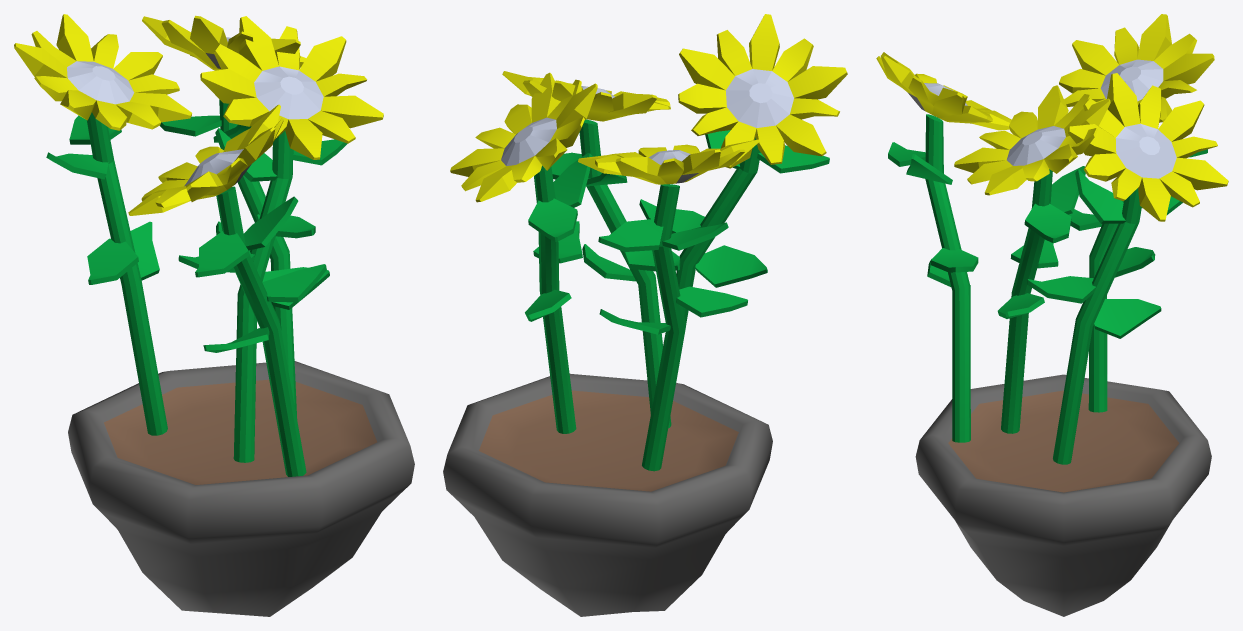
File: PlantOne.fbx
3 renders of one model, left to right at view 1: azimuth 30°, elevation 25°; view 2: azimuth 150°, elevation 25°; view 3: azimuth 270°, elevation 25°, orthographic. The views are drawn at different scales.
Parts seen in each view (by area): view 1: pCube1, pCylinder4, pCylinder8, pCylinder6, pCylinder5; view 2: pCube1, pCylinder6, pCylinder5, pCylinder4, pCylinder8; view 3: pCube1, pCylinder5, pCylinder8, pCylinder6, pCylinder4.
Boxes of the visible parts, left/top/right/bottom form: pCube1: left=68, top=361, right=414, bottom=616; pCylinder4: left=14, top=14, right=191, bottom=435; pCylinder8: left=178, top=16, right=383, bottom=462; pCylinder6: left=128, top=104, right=326, bottom=476; pCylinder5: left=142, top=15, right=315, bottom=419; pCube1: left=443, top=373, right=772, bottom=616; pCylinder6: left=639, top=14, right=847, bottom=346; pCylinder5: left=450, top=72, right=597, bottom=433; pCylinder4: left=578, top=139, right=759, bottom=471; pCylinder8: left=502, top=71, right=680, bottom=428; pCube1: left=915, top=374, right=1211, bottom=616; pCylinder5: left=1027, top=73, right=1228, bottom=464; pCylinder8: left=954, top=85, right=1110, bottom=433; pCylinder6: left=876, top=52, right=1011, bottom=442; pCylinder4: left=1059, top=14, right=1214, bottom=412.
Bounding box in the file's own units: 2.69 × 4.57 × 2.78.
